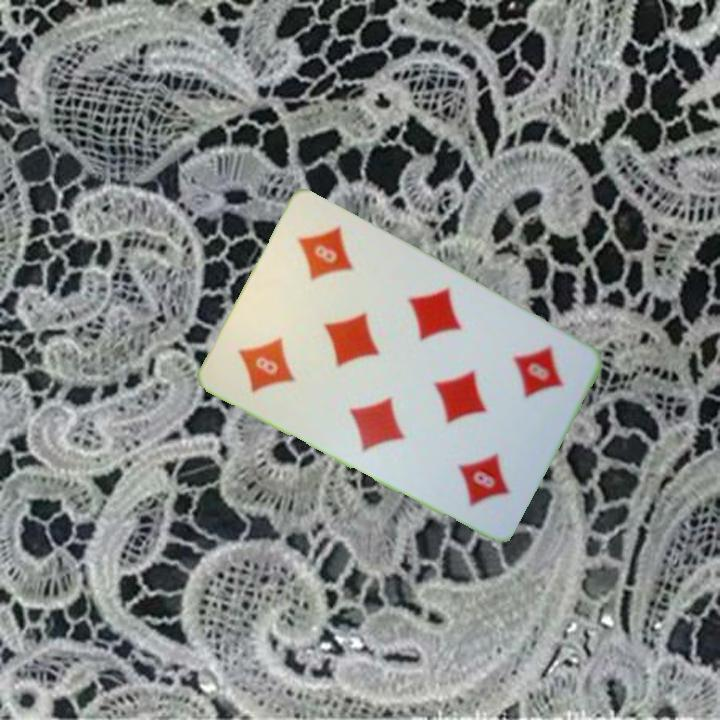d_8.png: (466, 318, 587, 445), (214, 290, 335, 416)
